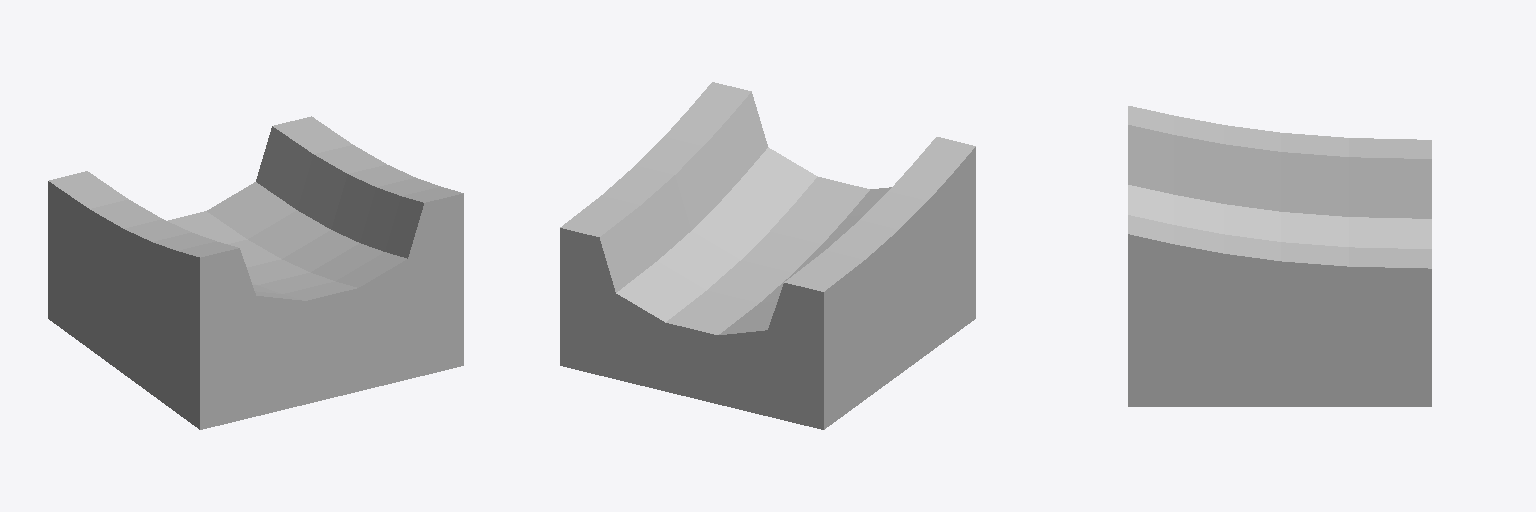
File: ramp-start-solid-a.obj
3 renders of one model, left to right at view 1: azimuth 30°, elevation 25°; view 2: azimuth 150°, elevation 25°; view 3: azimuth 270°, elevation 25°, orthographic.
Parts seen in each view (by area): view 1: ramp-start-solid-a; view 2: ramp-start-solid-a; view 3: ramp-start-solid-a.
Boxes of the visible parts, x1,y1,x2,y2 form: ramp-start-solid-a: [48, 116, 463, 429]; ramp-start-solid-a: [560, 82, 975, 429]; ramp-start-solid-a: [1128, 106, 1431, 406].
Bounding box in the file's own units: 1 × 0.625 × 1.